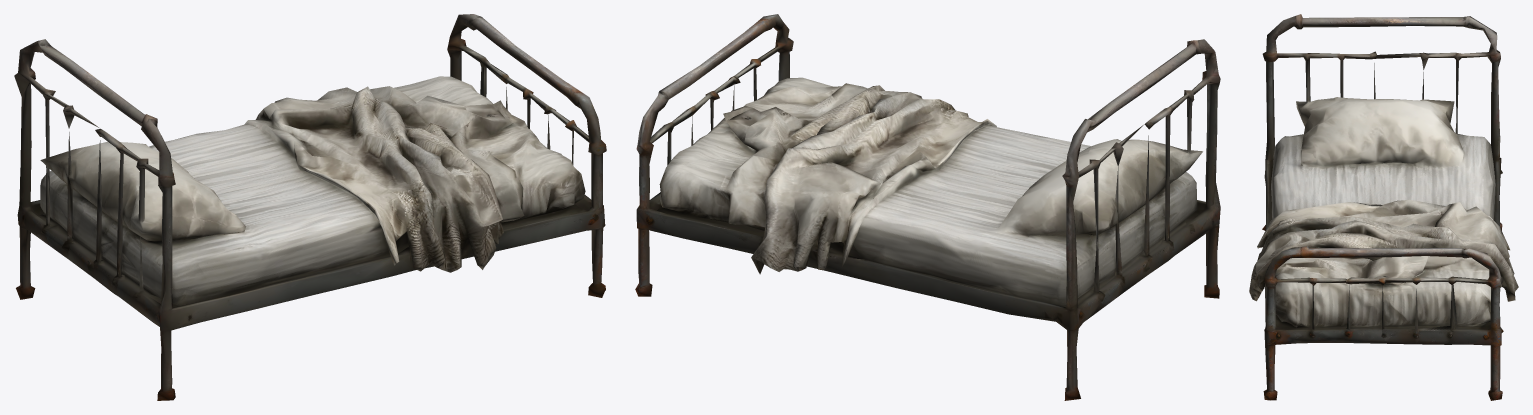
File: kh_bed.glb
The picture shows the model from 3 angles, left to right: view 1: azimuth 30°, elevation 25°; view 2: azimuth 150°, elevation 25°; view 3: azimuth 270°, elevation 25°; orthographic projection. The views are drawn at different scales.
Visible parts, largest first — view 1: tripo_node_19e10baa-3806-437d-ba43-113cf744f180; view 2: tripo_node_19e10baa-3806-437d-ba43-113cf744f180; view 3: tripo_node_19e10baa-3806-437d-ba43-113cf744f180.
Boxes of the visible parts, x1,y1,x2,y2 form: tripo_node_19e10baa-3806-437d-ba43-113cf744f180: (14, 14, 606, 400); tripo_node_19e10baa-3806-437d-ba43-113cf744f180: (635, 14, 1220, 400); tripo_node_19e10baa-3806-437d-ba43-113cf744f180: (1249, 14, 1518, 400).
Bounding box in the file's own units: 1 × 0.5802 × 0.6508.
Materials: 1 (1 with a texture image).
